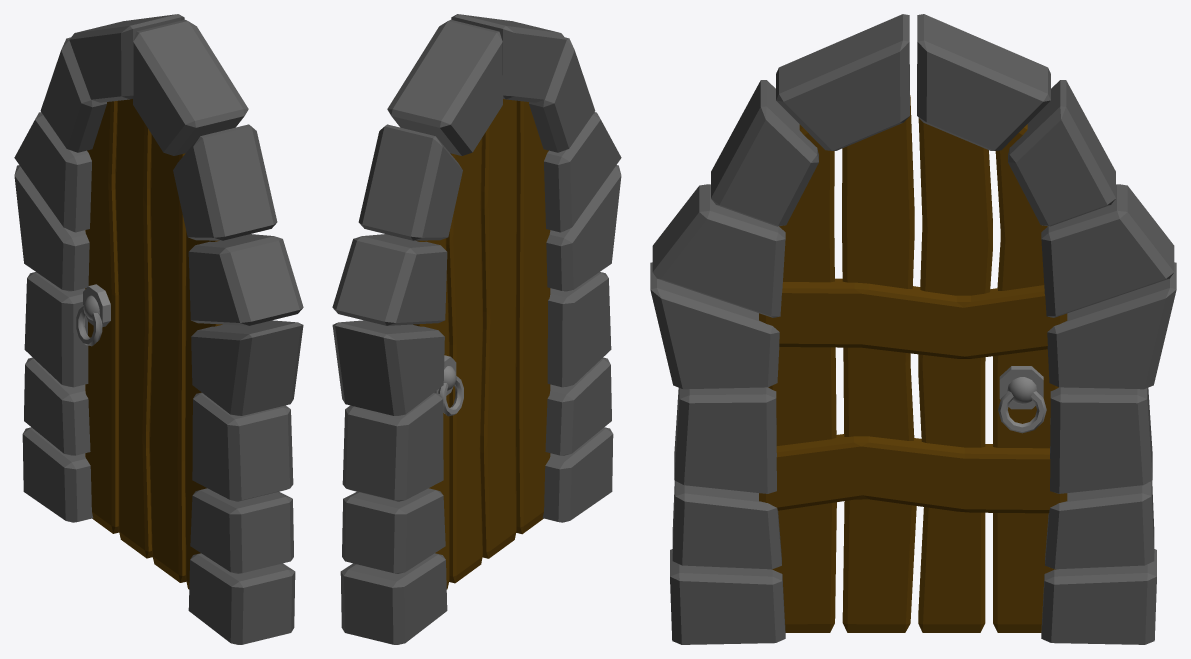
Rendered from door.fbx.
The picture shows the model from 3 angles, left to right: view 1: azimuth 30°, elevation 25°; view 2: azimuth 150°, elevation 25°; view 3: azimuth 270°, elevation 25°; orthographic projection. The views are drawn at different scales.
Parts seen in each view (by area): view 1: Frame, Door.001; view 2: Frame, Door.001; view 3: Frame, Door.001.
Part boxes in pixels (x1,y1,x2,y2): Frame: (14, 14, 303, 644); Door.001: (76, 99, 222, 589); Frame: (332, 14, 621, 644); Door.001: (413, 99, 550, 589); Frame: (650, 14, 1176, 644); Door.001: (759, 95, 1067, 632).
Bounding box in the file's own units: 44.81 × 363 × 287.
